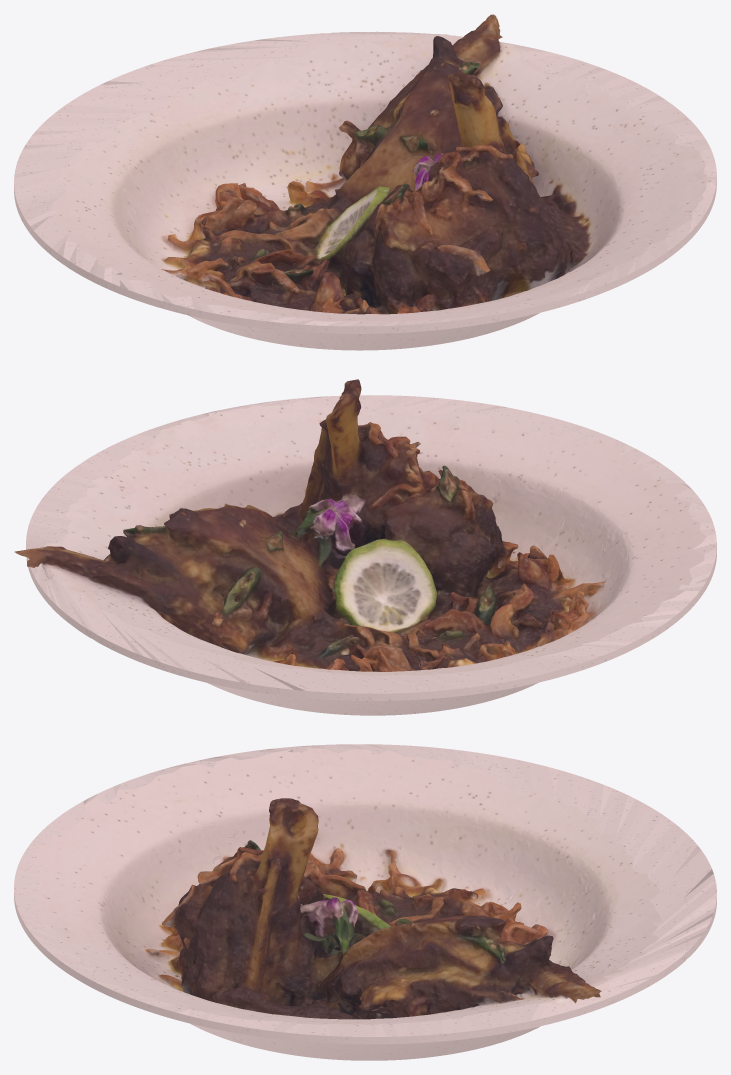
The model's file is Gorgora.glb.
3 views of the same model, one above another, from view 1: azimuth 30°, elevation 25°; view 2: azimuth 150°, elevation 25°; view 3: azimuth 270°, elevation 25° (orthographic).
Visible parts, largest first — view 1: polySurface1, polySurface3; view 2: polySurface1, polySurface3; view 3: polySurface1, polySurface3.
Boxes of the visible parts, x1,y1,x2,y2 form: polySurface1: (52, 14, 712, 321); polySurface3: (14, 31, 716, 350); polySurface1: (14, 379, 706, 675); polySurface3: (26, 395, 716, 715); polySurface1: (29, 747, 661, 1024); polySurface3: (14, 744, 716, 1060).
Bounding box in the file's own units: 0.1466 × 0.0468 × 0.1466.
Materials: 2 (2 with a texture image).
